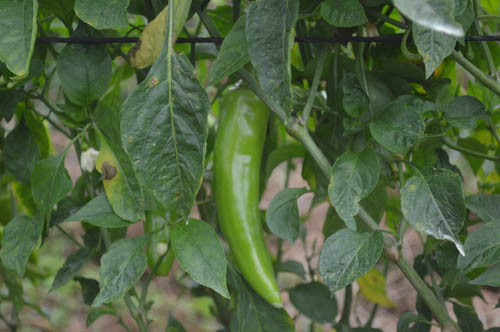ChiliPepper: (217, 92, 282, 304), (141, 210, 178, 276)
